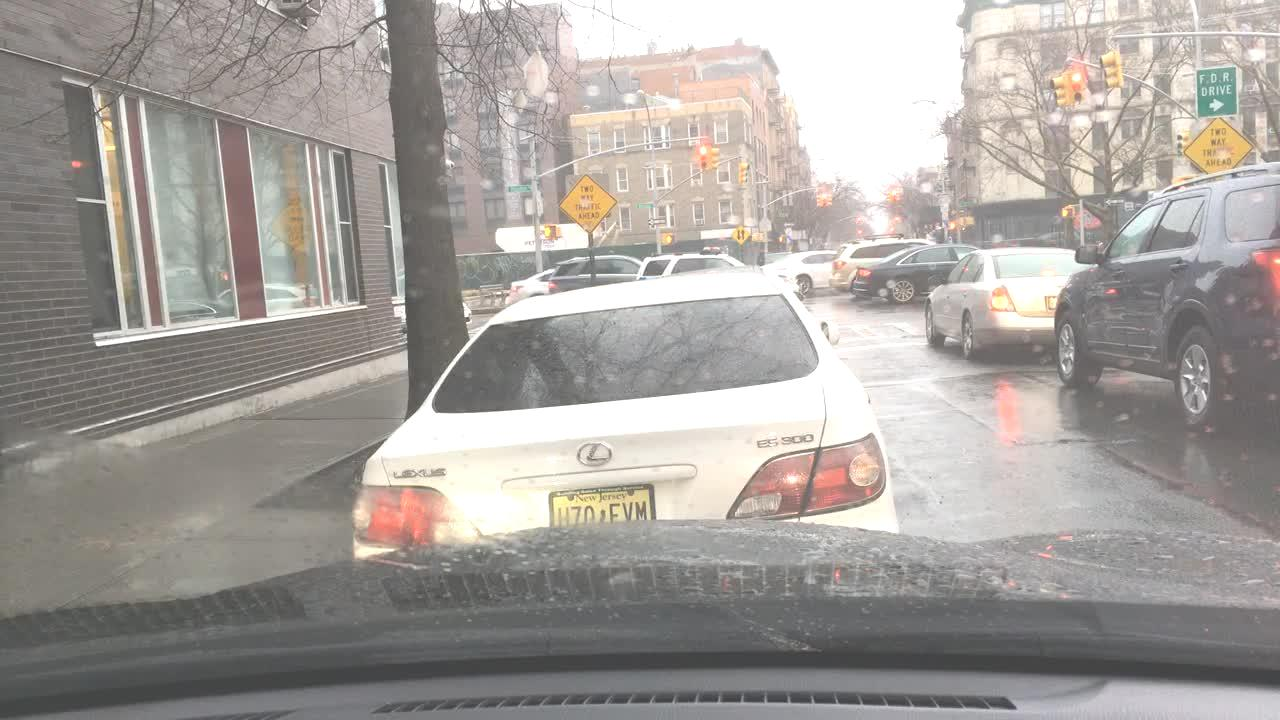lexus: (572, 440, 617, 469)
